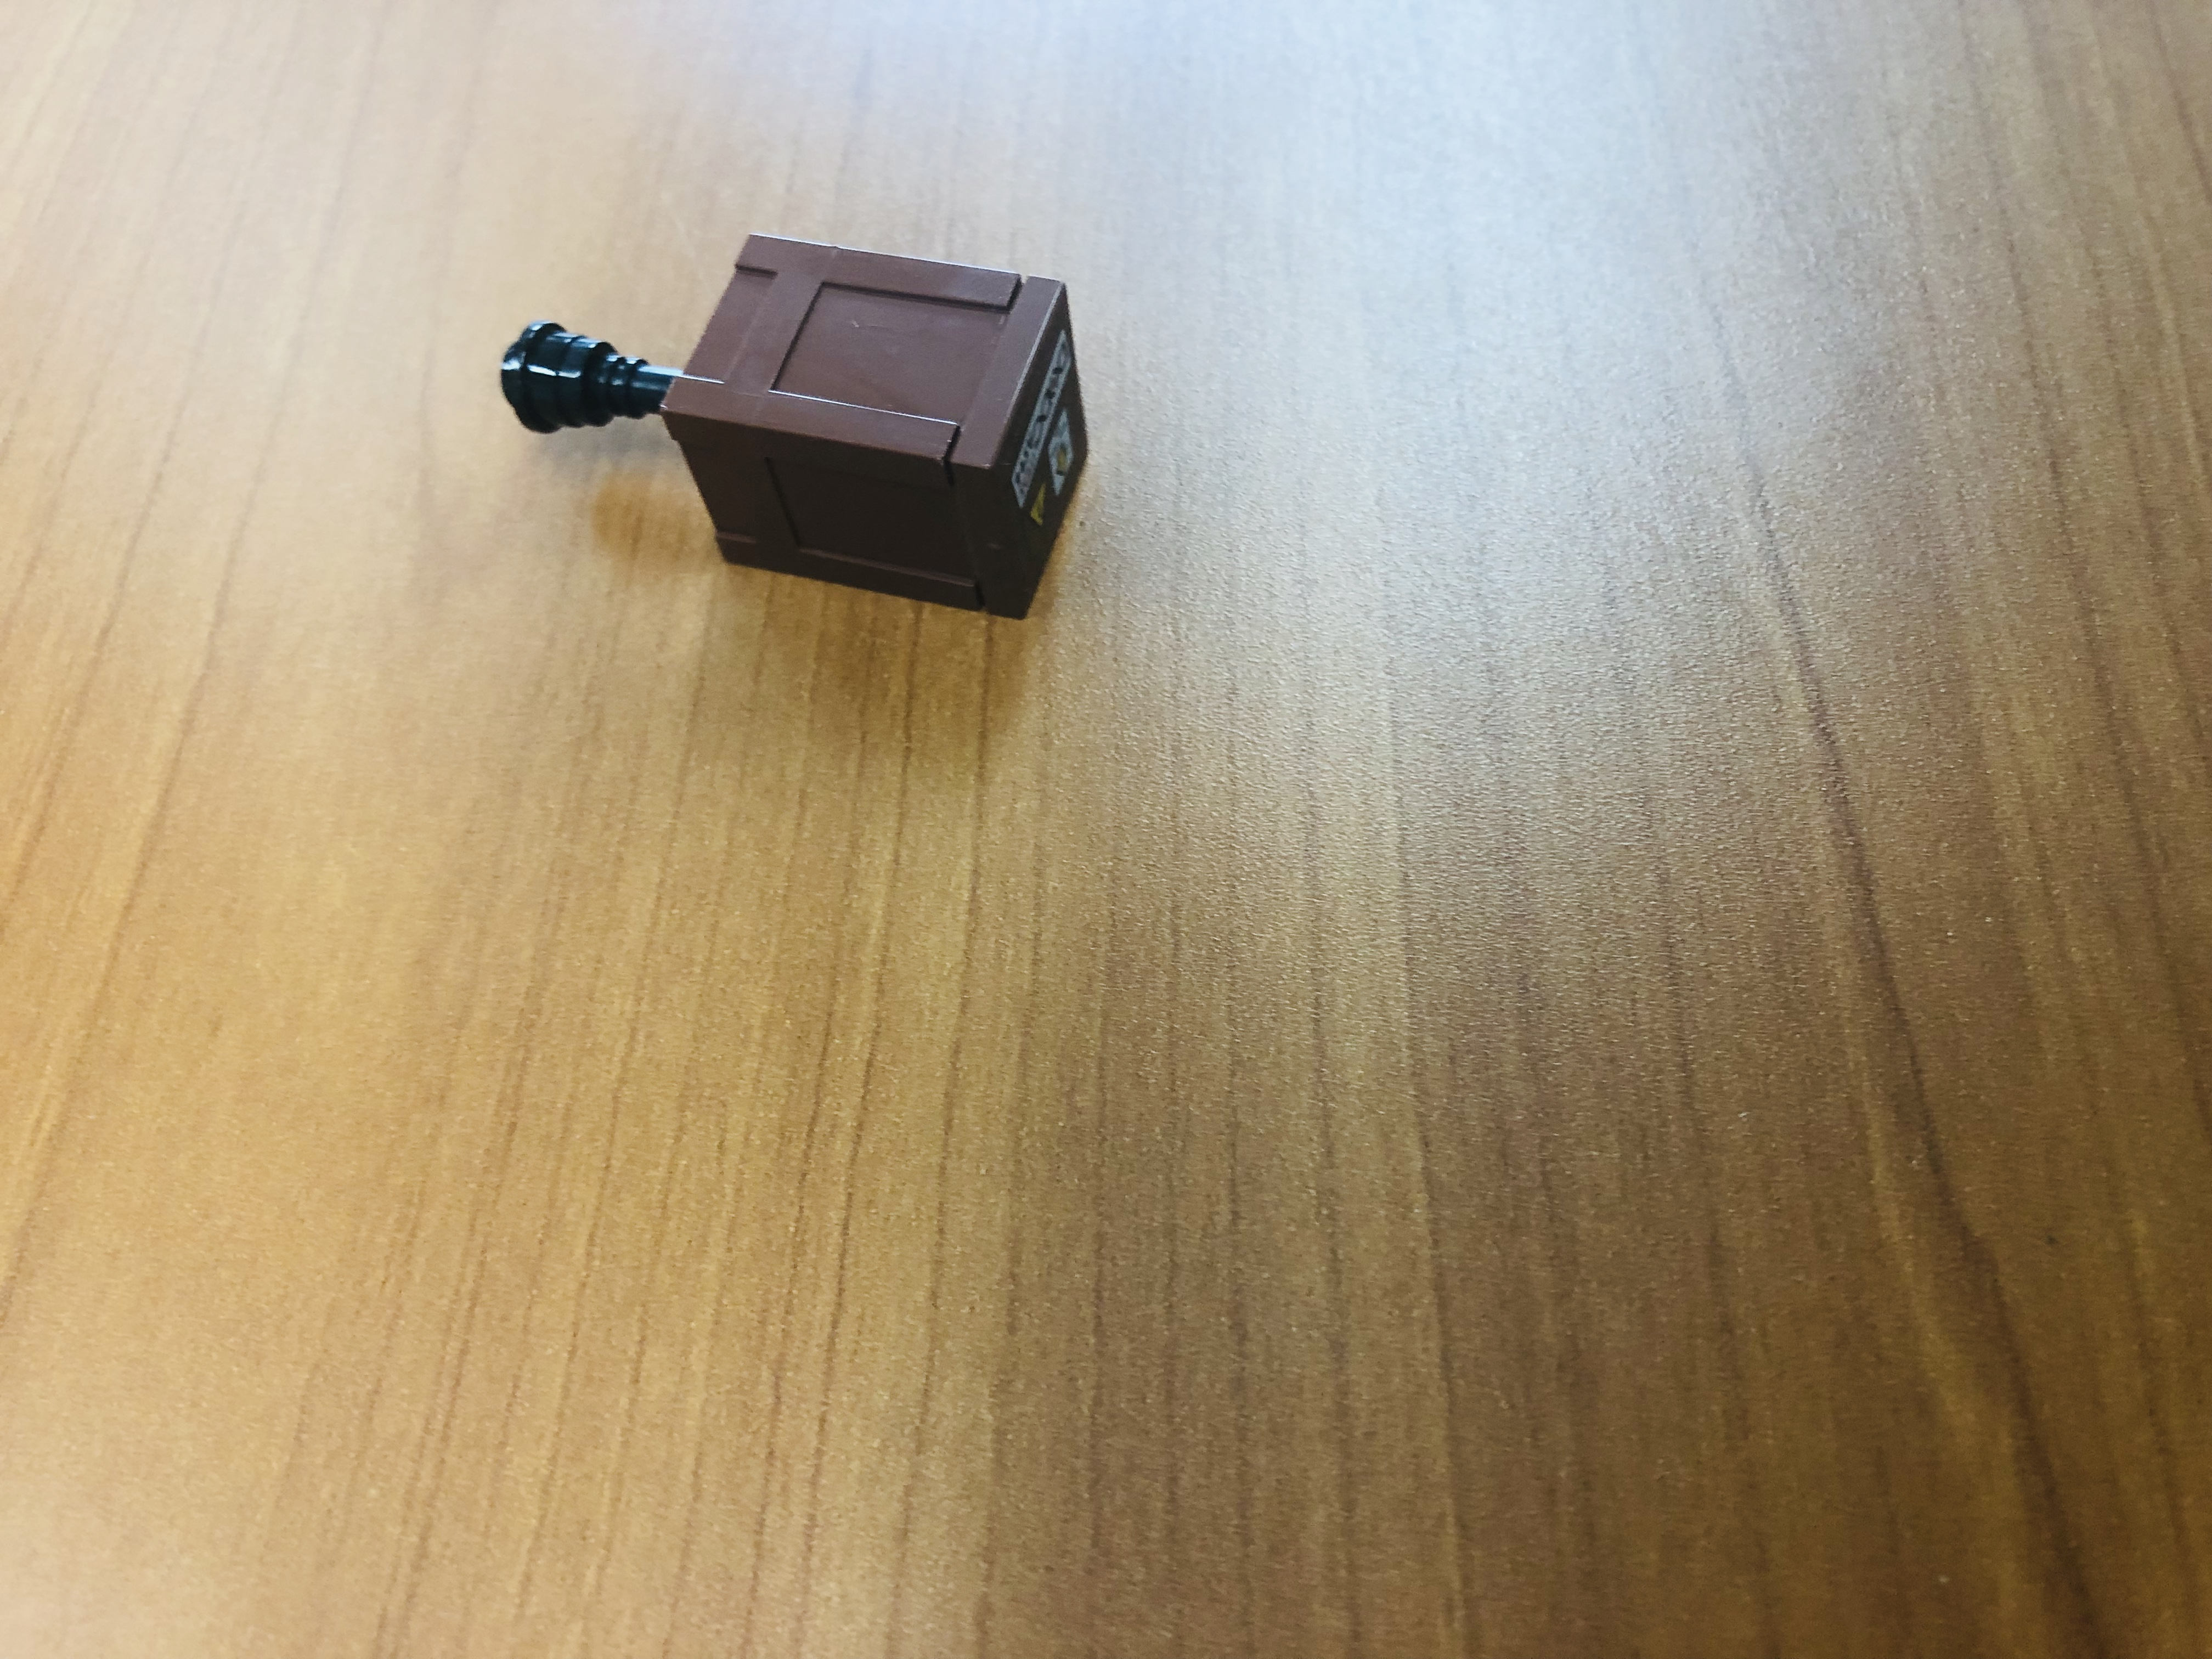box: (435, 174, 1173, 631)
